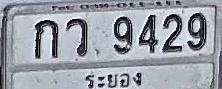2: (162, 12, 182, 52)
4: (138, 14, 158, 52)
9: (187, 12, 206, 50), (114, 16, 132, 54)
A01: (34, 19, 58, 58)
A37: (66, 18, 88, 56)
RYG: (80, 68, 143, 89)
